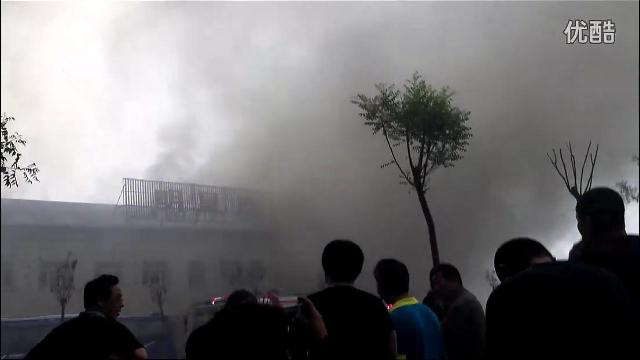smoke: (106, 4, 360, 180)
